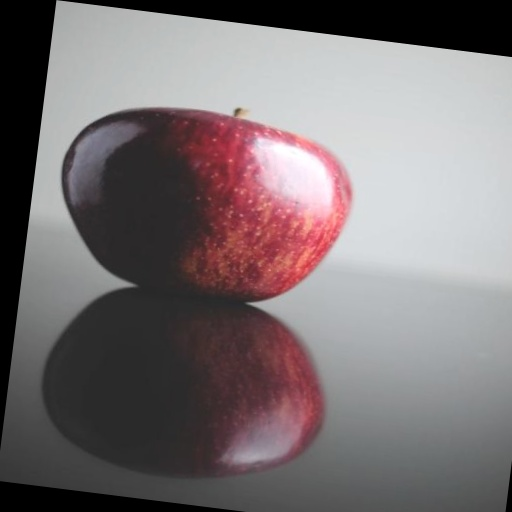fruit: (62, 108, 350, 301), (43, 288, 322, 476)
